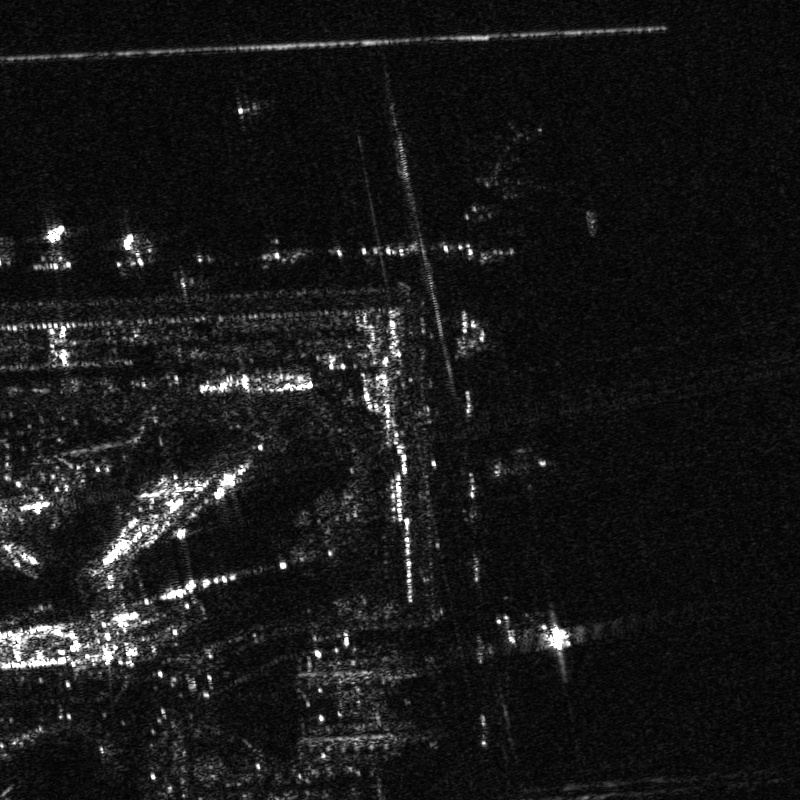A220: (479, 428, 557, 492)
